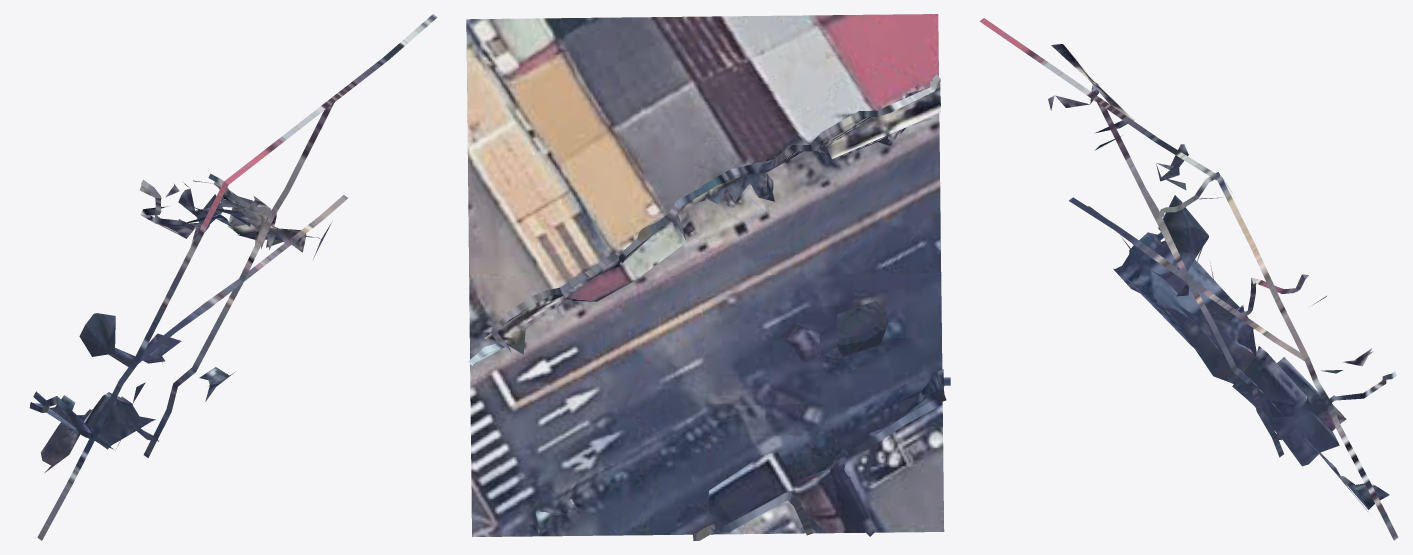
3 views of the same model, side by side, from view 1: azimuth 30°, elevation 25°; view 2: azimuth 150°, elevation 25°; view 3: azimuth 270°, elevation 25° (orthographic). The views are drawn at different scales.
Bounding box in the file's own units: 38.85 × 34.73 × 32.33.
1 material, 1 textured.
